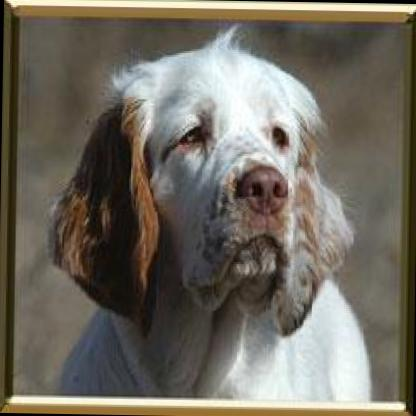clumber: (47, 10, 374, 404)
